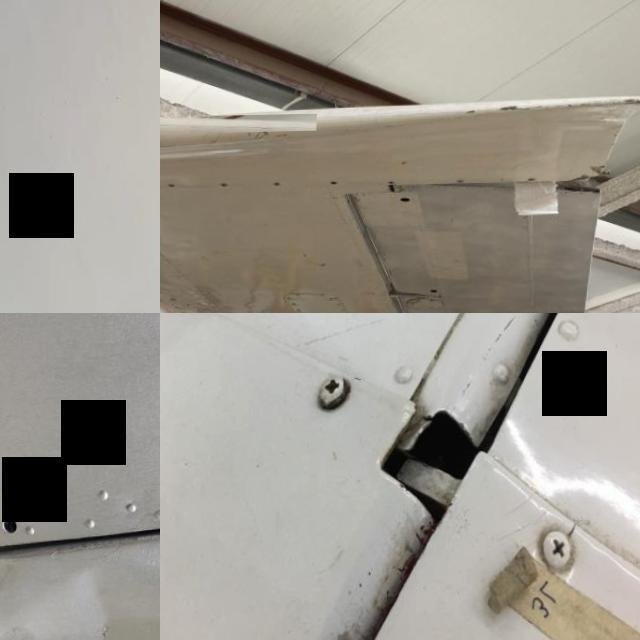Crack: (160, 114, 318, 136), (509, 499, 584, 545)
Missing_Fastener: (0, 507, 39, 563), (274, 183, 283, 189), (331, 182, 341, 187), (388, 182, 398, 187)
